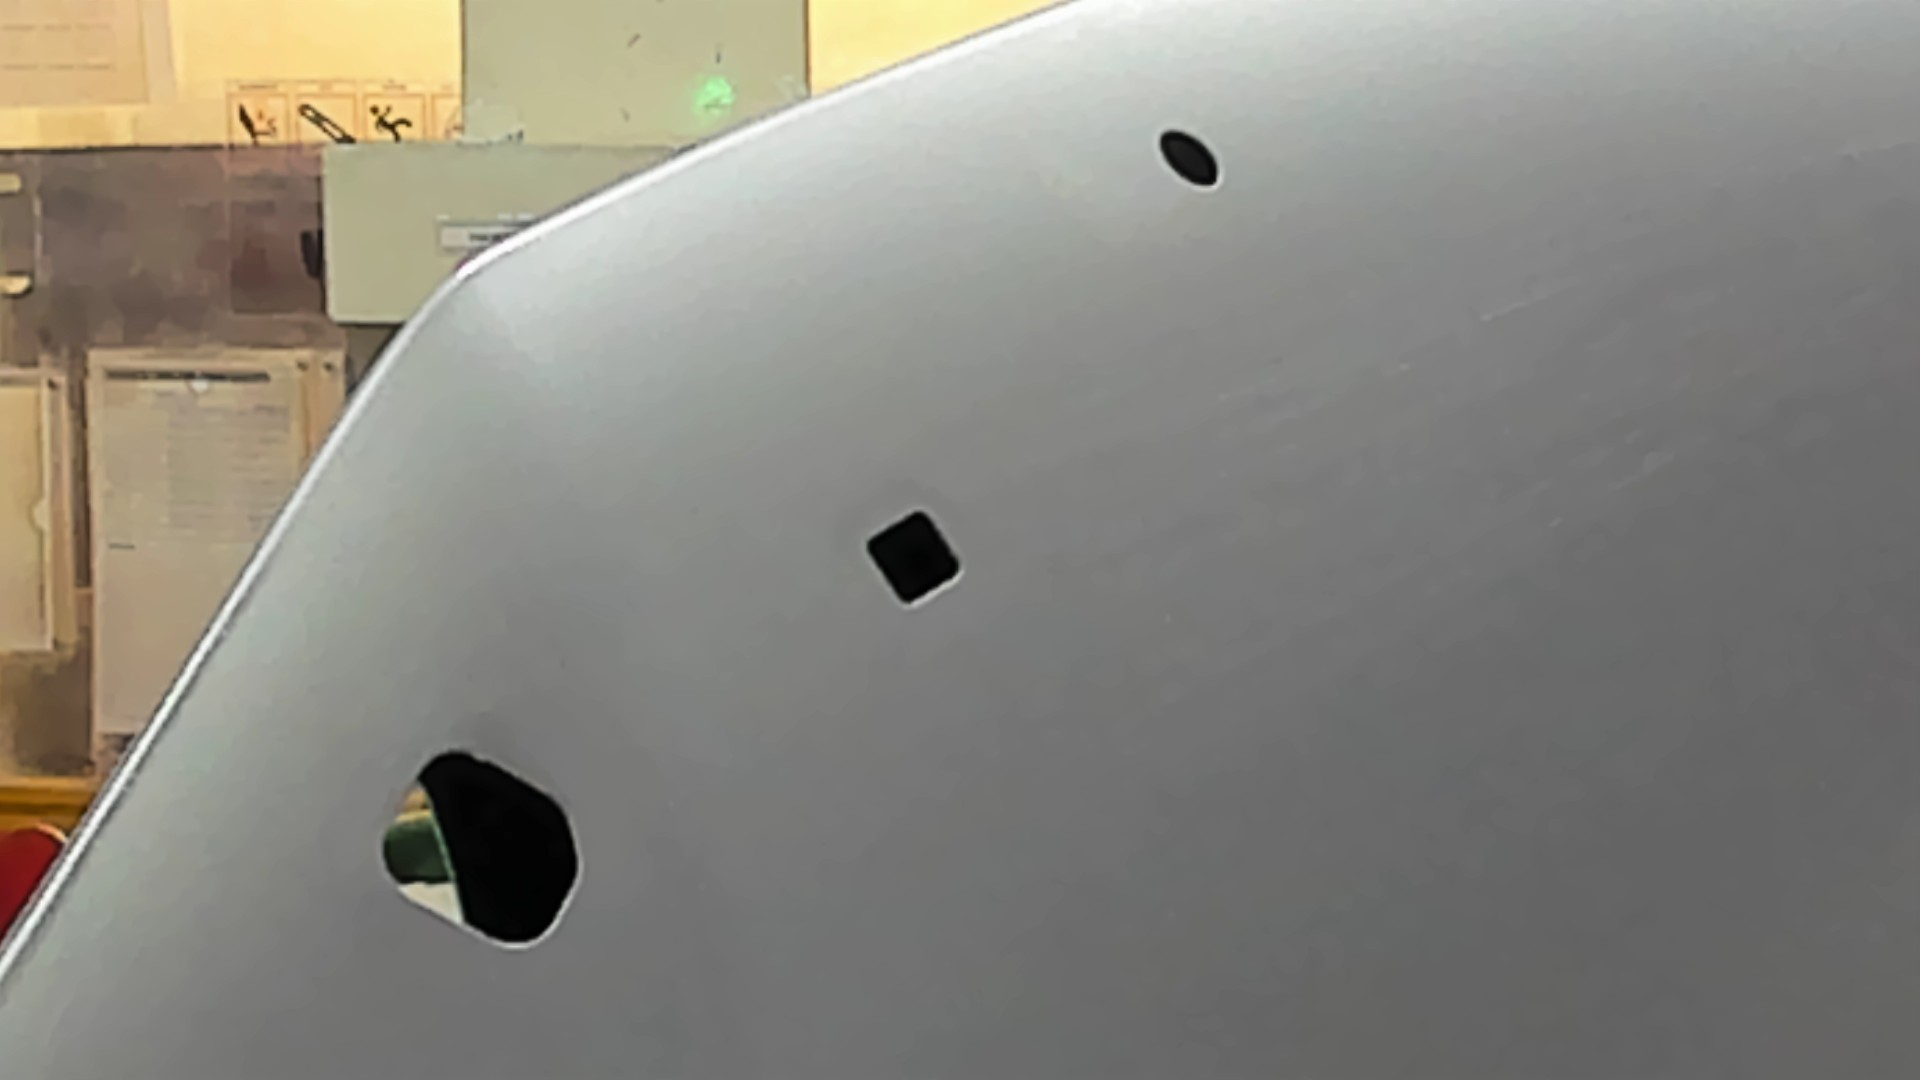chico: (1139, 117, 1238, 200)
grande: (352, 736, 600, 964)
mediano: (843, 492, 988, 624)
